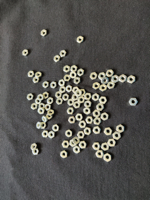nut: (96, 150, 105, 159), (129, 98, 139, 106), (104, 153, 112, 163), (128, 75, 136, 84), (113, 132, 122, 140), (108, 139, 117, 147), (102, 143, 110, 152), (112, 75, 120, 83), (117, 125, 125, 133), (93, 143, 101, 151), (105, 128, 113, 136), (101, 113, 109, 121), (101, 77, 109, 85), (100, 84, 108, 92), (90, 72, 98, 80), (97, 103, 105, 111), (93, 110, 101, 118), (93, 127, 101, 135), (84, 128, 92, 136), (79, 141, 87, 149), (79, 121, 87, 129), (62, 141, 70, 149), (98, 73, 107, 80), (120, 75, 127, 83), (108, 82, 116, 89), (100, 97, 108, 104), (93, 83, 101, 90), (93, 94, 100, 102), (94, 118, 102, 125), (77, 36, 84, 44), (84, 107, 91, 115), (86, 117, 94, 124), (77, 132, 85, 139), (73, 137, 80, 145), (74, 77, 81, 85), (67, 108, 75, 115), (60, 50, 67, 58), (54, 55, 61, 63), (61, 151, 68, 159), (66, 130, 73, 138), (64, 65, 71, 73), (66, 85, 73, 93), (107, 70, 114, 77), (78, 69, 85, 76), (85, 93, 92, 100), (85, 101, 92, 108), (70, 140, 77, 147), (79, 89, 86, 96), (78, 97, 85, 104), (76, 114, 83, 121), (74, 102, 81, 109), (76, 90, 83, 97), (73, 87, 80, 94), (72, 94, 79, 101), (68, 99, 75, 106), (69, 117, 76, 124), (71, 65, 78, 72), (70, 72, 77, 79), (64, 75, 71, 82), (59, 80, 66, 87), (56, 98, 63, 105), (35, 72, 42, 79), (52, 125, 59, 132), (42, 131, 49, 138), (31, 144, 38, 151), (47, 98, 54, 105), (46, 113, 53, 120), (27, 94, 34, 101), (38, 108, 45, 115), (31, 103, 38, 110), (74, 146, 80, 154), (56, 91, 62, 99), (43, 81, 49, 89), (49, 131, 55, 139), (38, 94, 44, 102), (41, 30, 47, 37), (63, 94, 69, 101), (60, 86, 66, 93), (51, 82, 57, 89), (28, 71, 34, 78), (33, 149, 39, 156), (43, 92, 49, 99), (48, 110, 54, 117), (45, 104, 51, 111), (42, 116, 48, 123), (41, 122, 47, 129), (36, 98, 42, 105), (33, 77, 39, 83), (39, 103, 45, 109), (37, 122, 42, 129), (23, 50, 28, 56)
